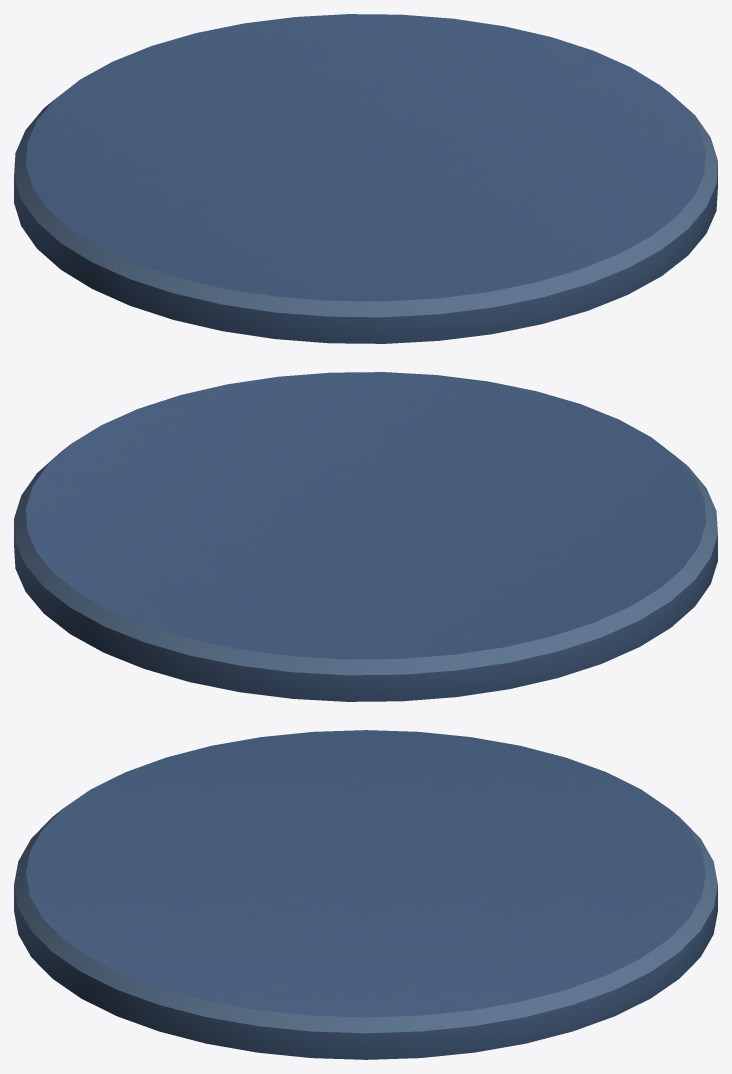
The model's file is Ring_02.fbx.
The picture shows the model from 3 angles, top to bottom: view 1: azimuth 30°, elevation 25°; view 2: azimuth 150°, elevation 25°; view 3: azimuth 270°, elevation 25°; orthographic projection.
Visible parts, largest first — view 1: Ring; view 2: Ring; view 3: Ring.
Boxes of the visible parts, <box> form: Ring: <box>14,14,717,343</box>; Ring: <box>14,372,717,701</box>; Ring: <box>14,730,717,1059</box>.
Bounding box in the file's own units: 122 × 7.11 × 122.
